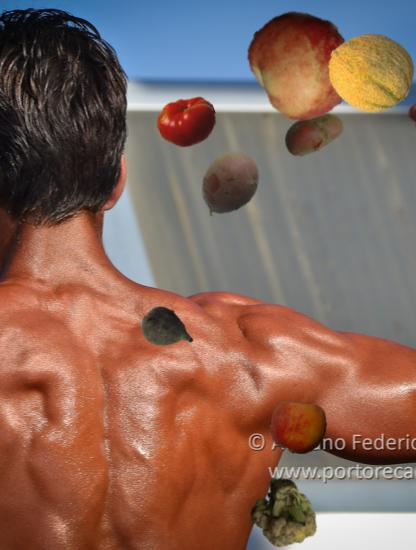Beetroot: (139, 300, 200, 361)
Cantaloupe: (327, 28, 415, 116)
Cauliflower: (247, 477, 318, 548)
Nectarine: (246, 8, 357, 119)
Peach: (270, 399, 328, 457)
Potato: (195, 148, 264, 217), (282, 102, 346, 166)
Tomato: (157, 92, 218, 153)
